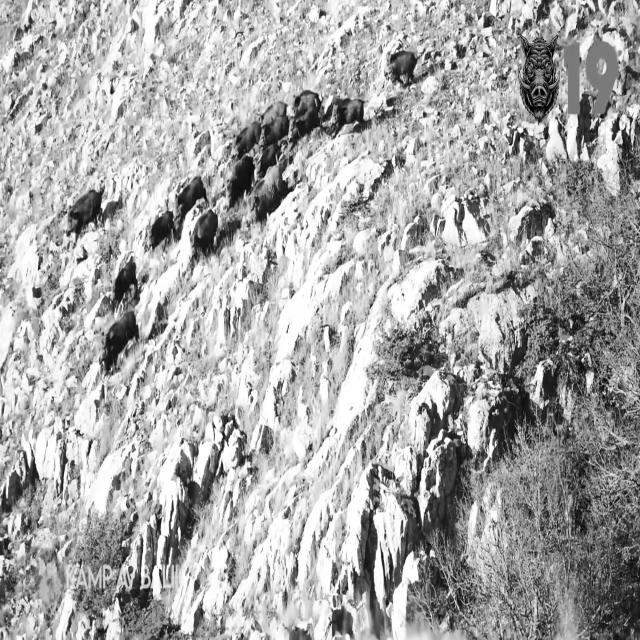boar: (518, 34, 559, 122), (101, 311, 138, 371), (251, 162, 288, 220), (290, 88, 321, 140), (66, 188, 101, 233), (226, 152, 254, 205), (329, 97, 364, 134), (177, 175, 206, 219), (262, 100, 289, 145), (192, 208, 218, 252), (114, 257, 136, 304), (389, 49, 418, 84), (235, 120, 261, 157), (150, 210, 173, 247)
